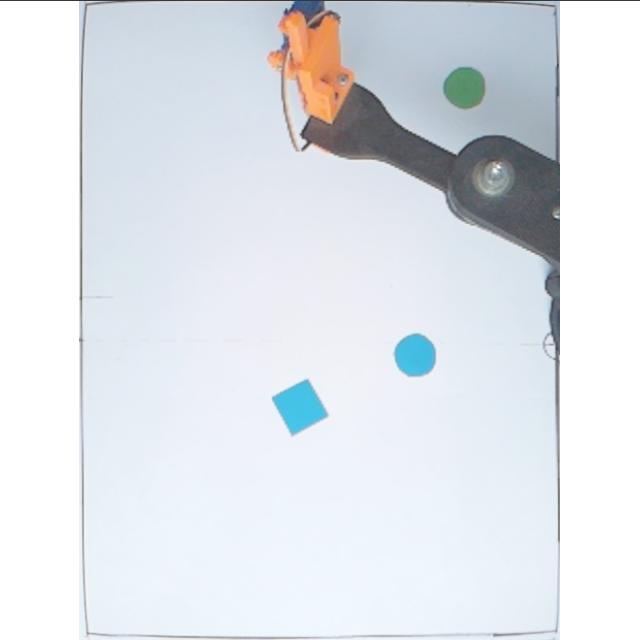blueCircle: (394, 330, 440, 378)
blueSquare: (272, 376, 332, 438)
greenCircle: (444, 64, 491, 110)
